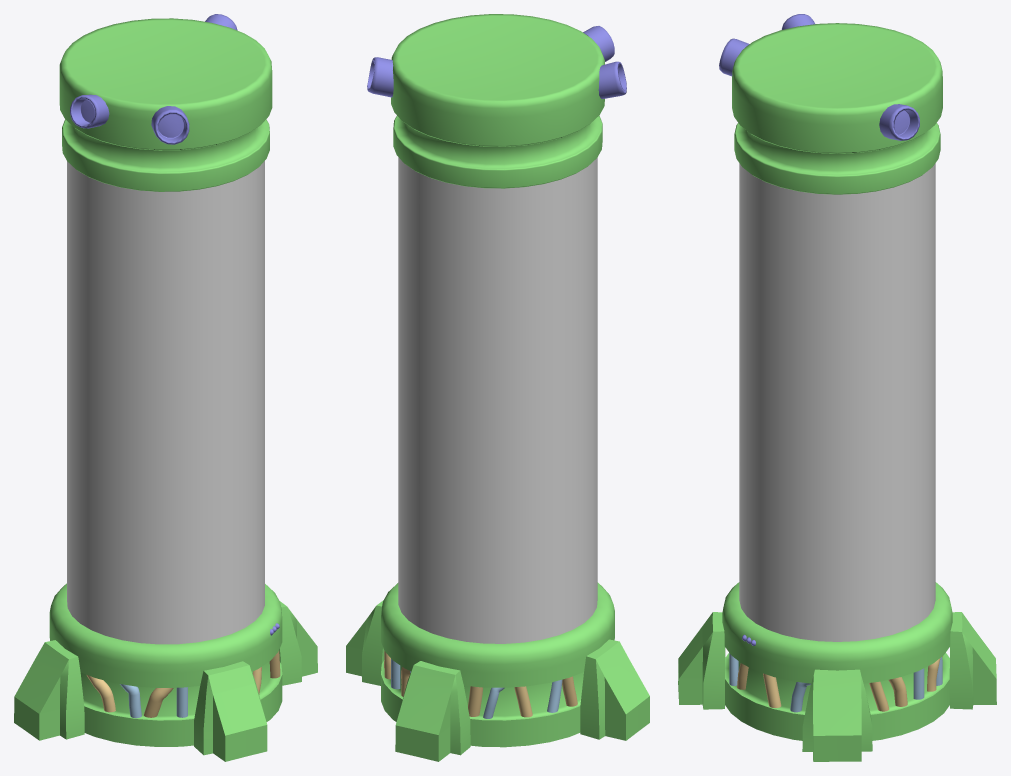
File: lifeformtube.fbx
3 renders of one model, left to right at view 1: azimuth 30°, elevation 25°; view 2: azimuth 150°, elevation 25°; view 3: azimuth 270°, elevation 25°, orthographic.
Parts seen in each view (by area): view 1: glass_low, base_low, orangewires_low, wireconnector2_low, wireconnector1_low, bluewires_low; view 2: glass_low, base_low, orangewires_low, bluewires_low, wireconnector3_low, wireconnector1_low, wireconnector2_low; view 3: glass_low, base_low, orangewires_low, wireconnector3_low, bluewires_low, wireconnector2_low.
Boxes of the visible parts, x1,y1,x2,y2 form: glass_low: [67, 161, 264, 644]; base_low: [14, 18, 317, 761]; orangewires_low: [86, 650, 280, 717]; wireconnector2_low: [151, 106, 189, 144]; wireconnector1_low: [70, 94, 109, 128]; bluewires_low: [120, 684, 187, 718]; glass_low: [398, 157, 597, 643]; base_low: [346, 14, 649, 761]; orangewires_low: [384, 651, 577, 717]; bluewires_low: [391, 659, 562, 718]; wireconnector3_low: [367, 57, 393, 97]; wireconnector1_low: [598, 61, 626, 99]; wireconnector2_low: [583, 26, 614, 61]; glass_low: [739, 163, 935, 641]; base_low: [678, 23, 996, 761]; orangewires_low: [737, 656, 942, 711]; wireconnector3_low: [879, 104, 919, 140]; bluewires_low: [729, 653, 942, 712]; wireconnector2_low: [719, 38, 749, 76].
Bounding box in the file's own units: 2.24 × 4.91 × 2.24.
